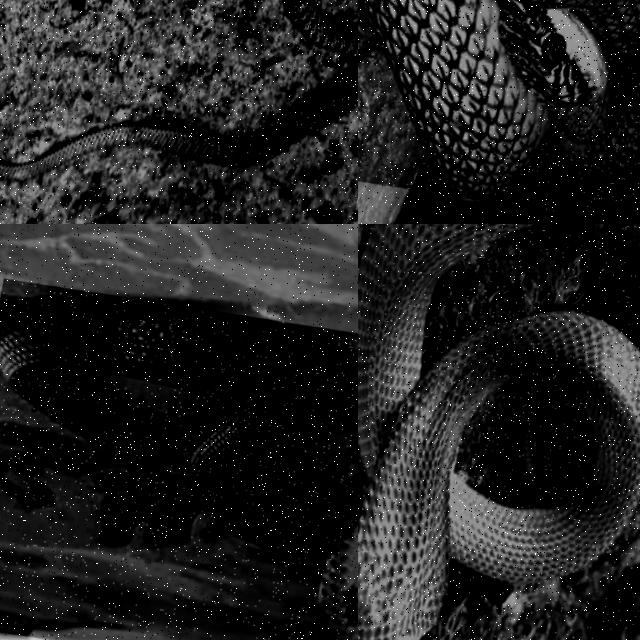Chrysopelea ornata: (0, 0, 357, 181), (363, 0, 639, 198)
Naja kaouthia: (0, 295, 357, 639)
Naja siamensis: (358, 224, 639, 639)
snake: (0, 295, 357, 639), (358, 224, 639, 639), (0, 0, 357, 181), (363, 0, 639, 198)
